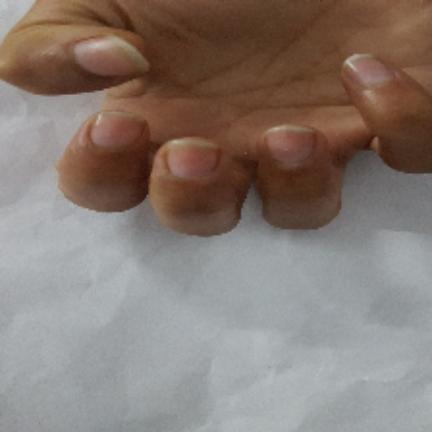Nail: (74, 35, 149, 76), (90, 111, 146, 148), (264, 125, 314, 164), (167, 140, 218, 178), (342, 54, 392, 88)
